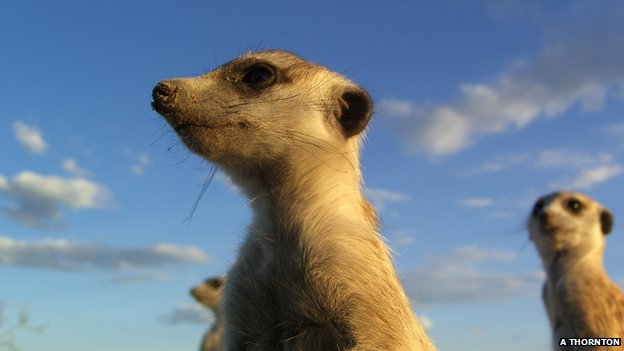meerkat: (116, 34, 422, 351), (509, 168, 624, 325)
